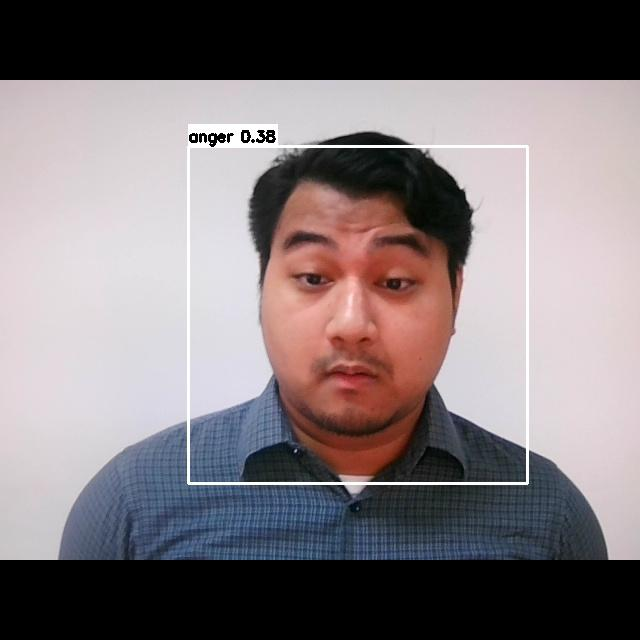Surprised: (269, 214, 454, 409)
